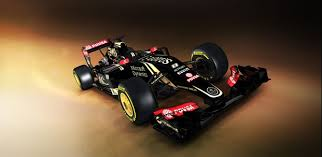FormulaOneCar: (71, 31, 273, 144)
